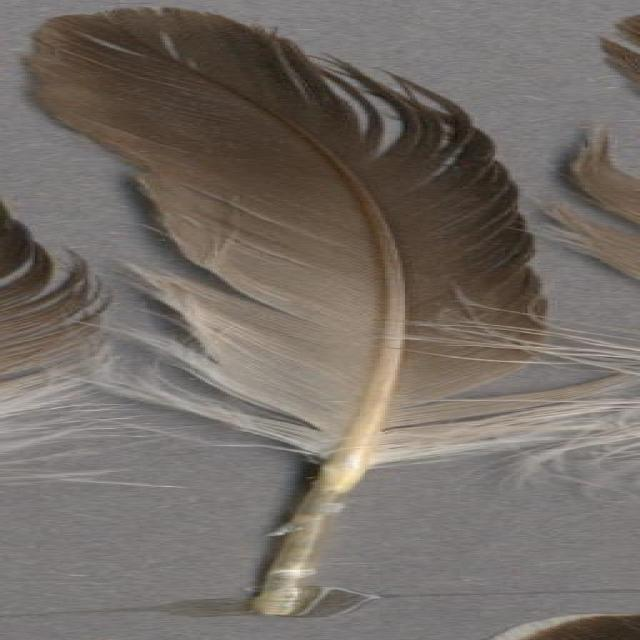feather: (25, 5, 640, 617)
